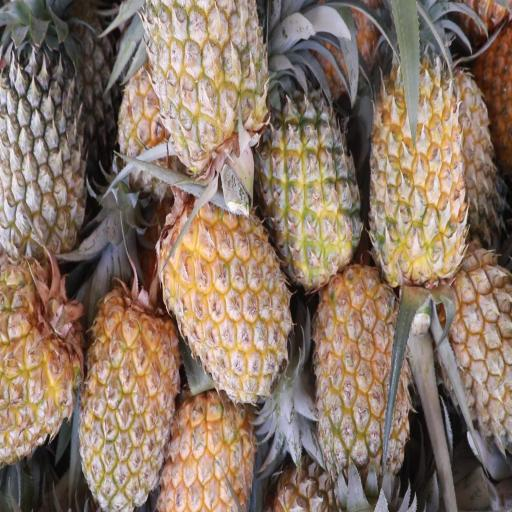------------------------------: (250, 56, 366, 301), (135, 0, 272, 179)
Pineapple - v8 v1: (153, 176, 296, 406), (364, 4, 470, 296), (308, 237, 410, 512), (78, 263, 184, 510), (0, 242, 88, 472), (435, 218, 512, 450), (154, 350, 256, 512)
